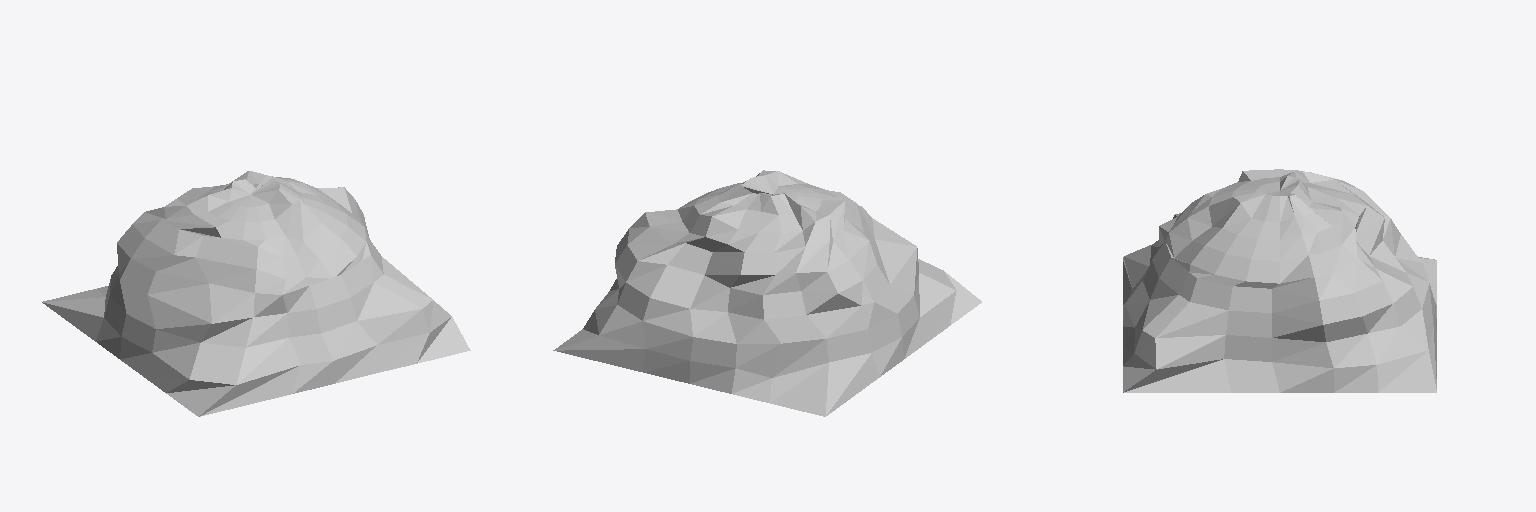
Rendered from Terrain_Map_1.obj.
3 views of the same model, side by side, from view 1: azimuth 30°, elevation 25°; view 2: azimuth 150°, elevation 25°; view 3: azimuth 270°, elevation 25° (orthographic).
Visible parts, largest first — view 1: pSphere1; view 2: pSphere1; view 3: pSphere1.
Boxes of the visible parts, x1=… form: pSphere1: x1=42, y1=171, x2=470, y2=416; pSphere1: x1=553, y1=170, x2=981, y2=416; pSphere1: x1=1123, y1=169, x2=1436, y2=392.
Size of the model in its own units: 2 by 0.9877 by 2.